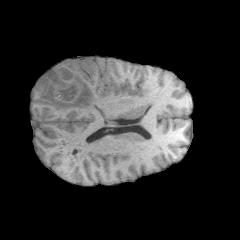glioma: (39, 63, 96, 110)
